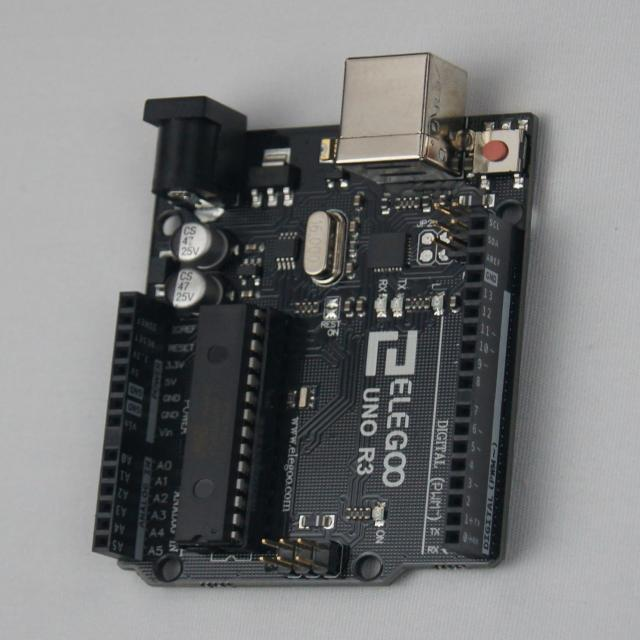Arduino Uno -Black-: (94, 54, 536, 586)
